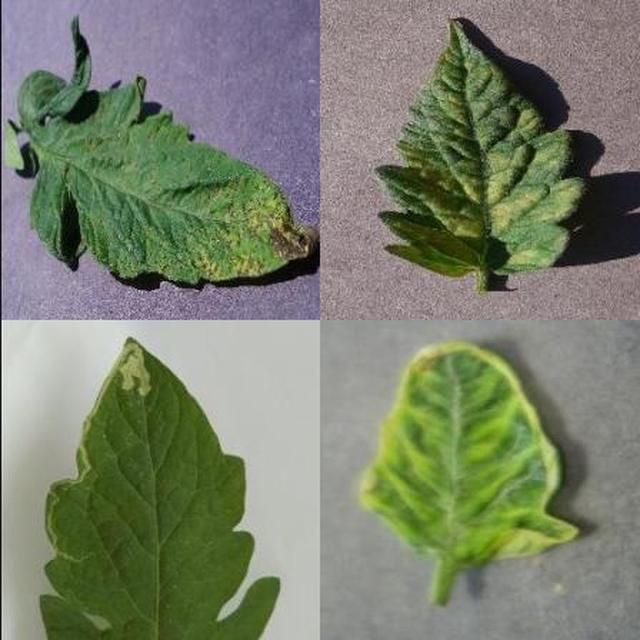Septoria Leaf: (227, 206, 640, 640)
